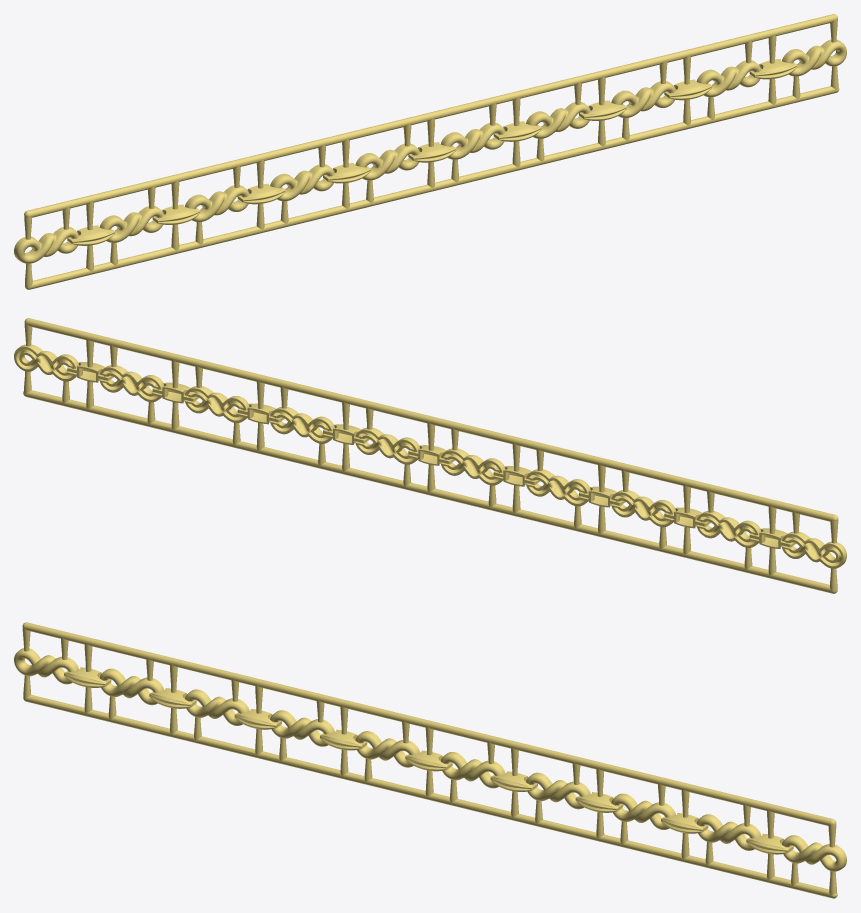
Rendered from yzn5-104.glb.
The picture shows the model from 3 angles, top to bottom: view 1: azimuth 30°, elevation 25°; view 2: azimuth 150°, elevation 25°; view 3: azimuth 330°, elevation 25°; orthographic projection.
Parts seen in each view (by area): view 1: Renderer Node; view 2: Renderer Node; view 3: Renderer Node.
Boxes of the visible parts, x1,y1,x2,y2 form: Renderer Node: [14, 14, 846, 289]; Renderer Node: [14, 318, 846, 593]; Renderer Node: [14, 622, 846, 898].
Bounding box in the file's own units: 181 × 16.35 × 3.77.
